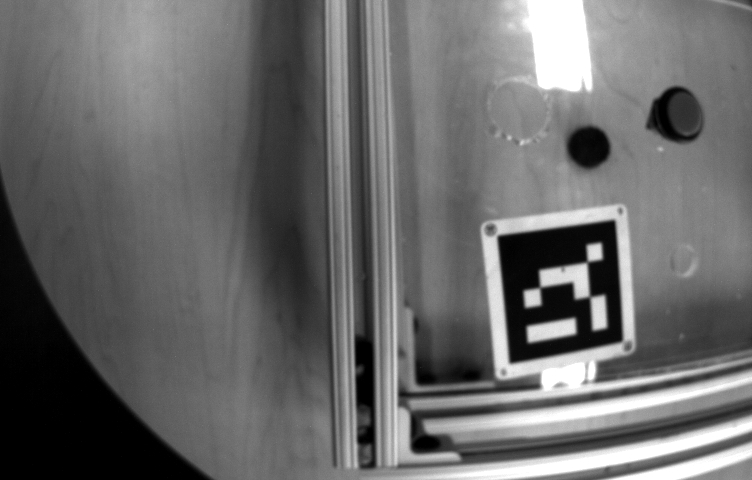dull_green_button: (635, 77, 710, 154)
